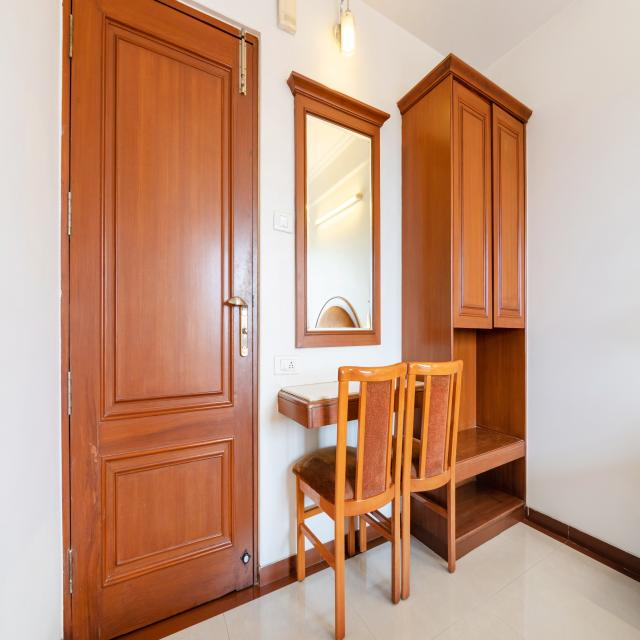Chair: (288, 359, 408, 640), (355, 354, 467, 604)
